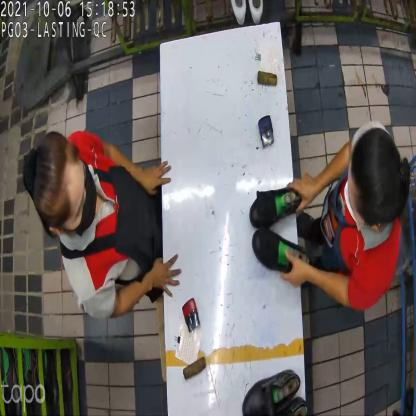shoes: (248, 187, 313, 284), (240, 370, 307, 416)
stamp: (255, 115, 276, 151), (184, 296, 202, 334)
